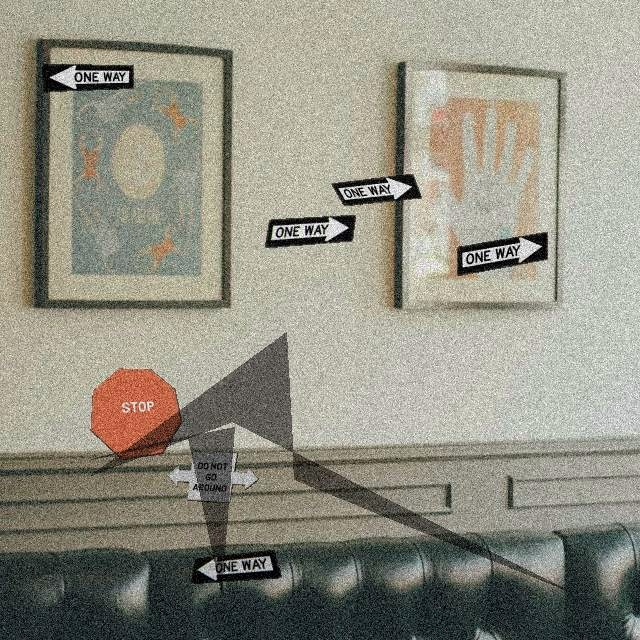DO_NOT_GO_AROUND: (167, 451, 259, 503)
ONE_WAY_ left: (190, 549, 282, 584), (42, 63, 134, 92)
ONE_WAY_ right: (456, 231, 548, 276), (264, 214, 356, 248), (330, 173, 422, 206)
STOP: (90, 368, 182, 460)
